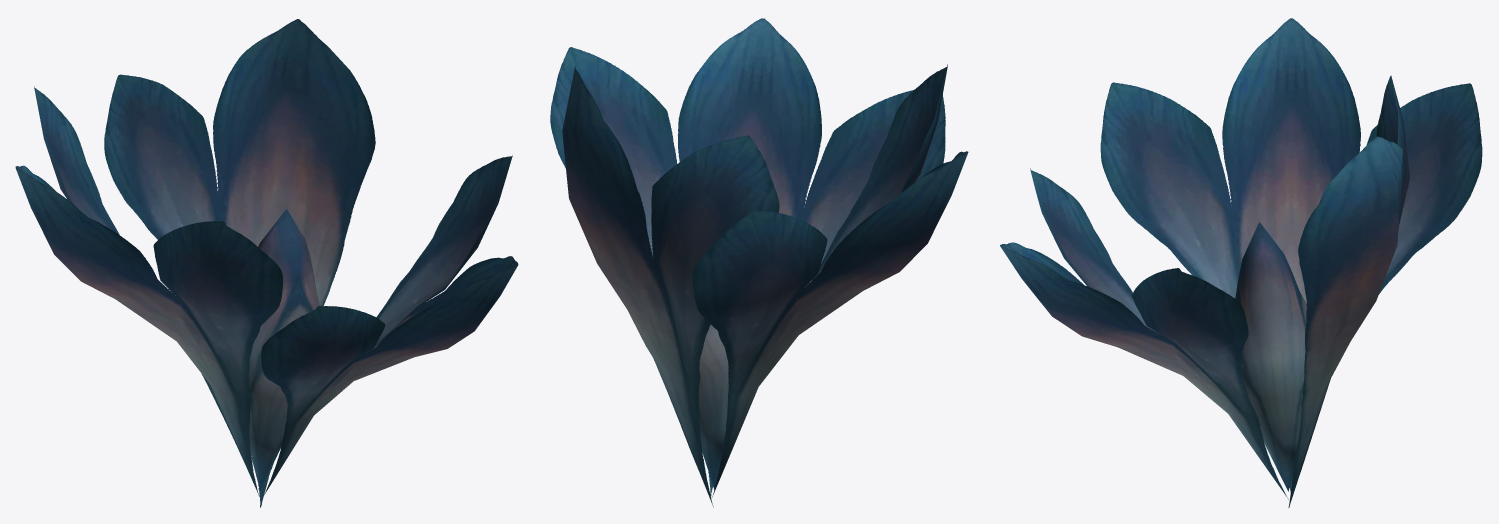
The picture shows the model from 3 angles, left to right: view 1: azimuth 30°, elevation 25°; view 2: azimuth 150°, elevation 25°; view 3: azimuth 270°, elevation 25°; orthographic projection. The views are drawn at different scales.
Size of the model in its own units: 11.03 by 10.46 by 11.04.
1 material, 1 textured.
